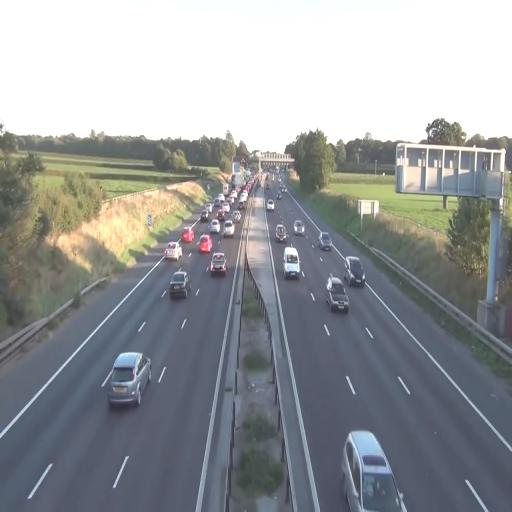vehicle: (342, 430, 407, 512), (108, 352, 152, 408), (326, 276, 350, 314), (344, 255, 364, 287), (169, 270, 189, 300), (282, 245, 300, 278), (210, 251, 227, 275), (164, 240, 181, 264), (275, 221, 288, 243), (198, 234, 212, 254), (319, 231, 331, 249), (223, 220, 235, 237), (293, 220, 305, 236)
